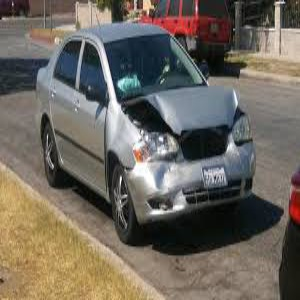bonnet: (147, 87, 244, 126)
bumper: (126, 160, 259, 212)
